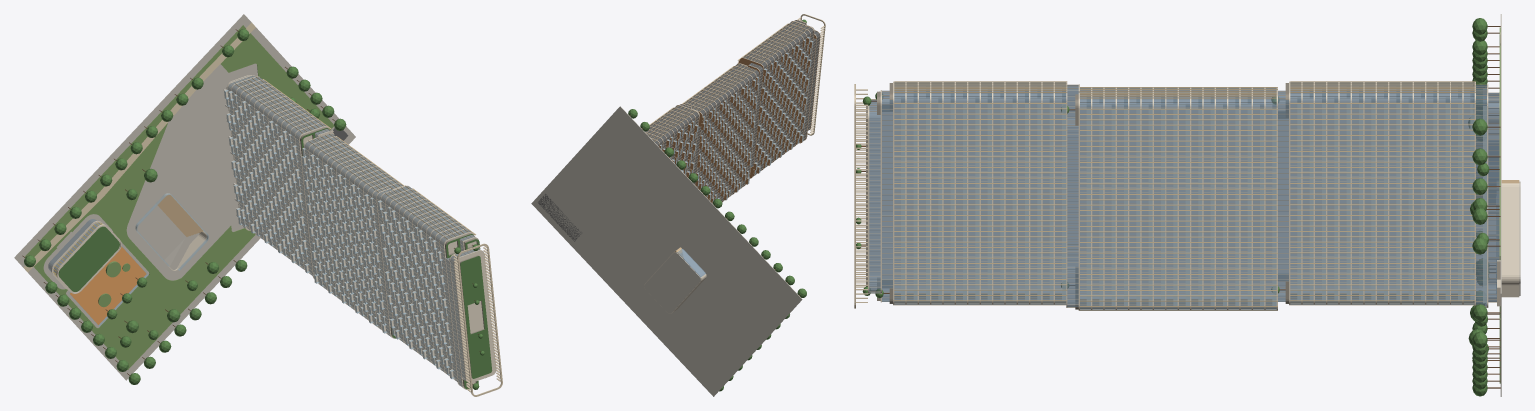
The model's file is 화랑A_상세모형.obj.
3 views of the same model, side by side, from view 1: azimuth 30°, elevation 25°; view 2: azimuth 150°, elevation 25°; view 3: azimuth 270°, elevation 25° (orthographic). The views are drawn at different scales.
Parts seen in each view (by area): view 1: slab, glass, paving, lawn, railing, balcony, green, mullion, fin, play, frame, path (+2 smaller); view 2: paving, soffit, glass, railing, slab, mullion, balcony, fin, green, frame, ramp; view 3: glass, fin, railing, mullion, slab, balcony, green, frame, paving, planter, trunk, lawn.
Boxes of the visible parts, x1,y1,x2,y2 form: slab: [51, 75, 496, 389]; glass: [48, 75, 480, 386]; paving: [14, 14, 355, 380]; lawn: [25, 25, 334, 369]; railing: [68, 90, 454, 379]; balcony: [224, 89, 453, 377]; green: [24, 29, 492, 389]; mullion: [228, 76, 480, 387]; fin: [235, 76, 475, 239]; play: [69, 246, 146, 325]; frame: [453, 243, 502, 396]; path: [23, 22, 255, 272]; paving: [531, 106, 802, 396]; soffit: [644, 20, 820, 203]; glass: [644, 20, 819, 277]; railing: [660, 37, 813, 201]; slab: [644, 20, 820, 313]; mullion: [648, 20, 819, 201]; balcony: [660, 38, 812, 202]; fin: [646, 21, 810, 141]; green: [628, 19, 806, 391]; frame: [797, 14, 825, 135]; ramp: [538, 194, 581, 241]; glass: [869, 82, 1499, 310]; fin: [894, 81, 1475, 310]; railing: [901, 89, 1498, 305]; mullion: [869, 83, 1499, 310]; slab: [868, 81, 1519, 310]; balcony: [905, 102, 1487, 305]; green: [856, 18, 1489, 396]; frame: [854, 84, 867, 308]; paving: [1500, 14, 1520, 396]; planter: [866, 83, 1288, 309]; trunk: [861, 26, 1500, 388]; lawn: [1499, 27, 1500, 383].
Bounding box in the file's own units: 144 × 136 × 178.
